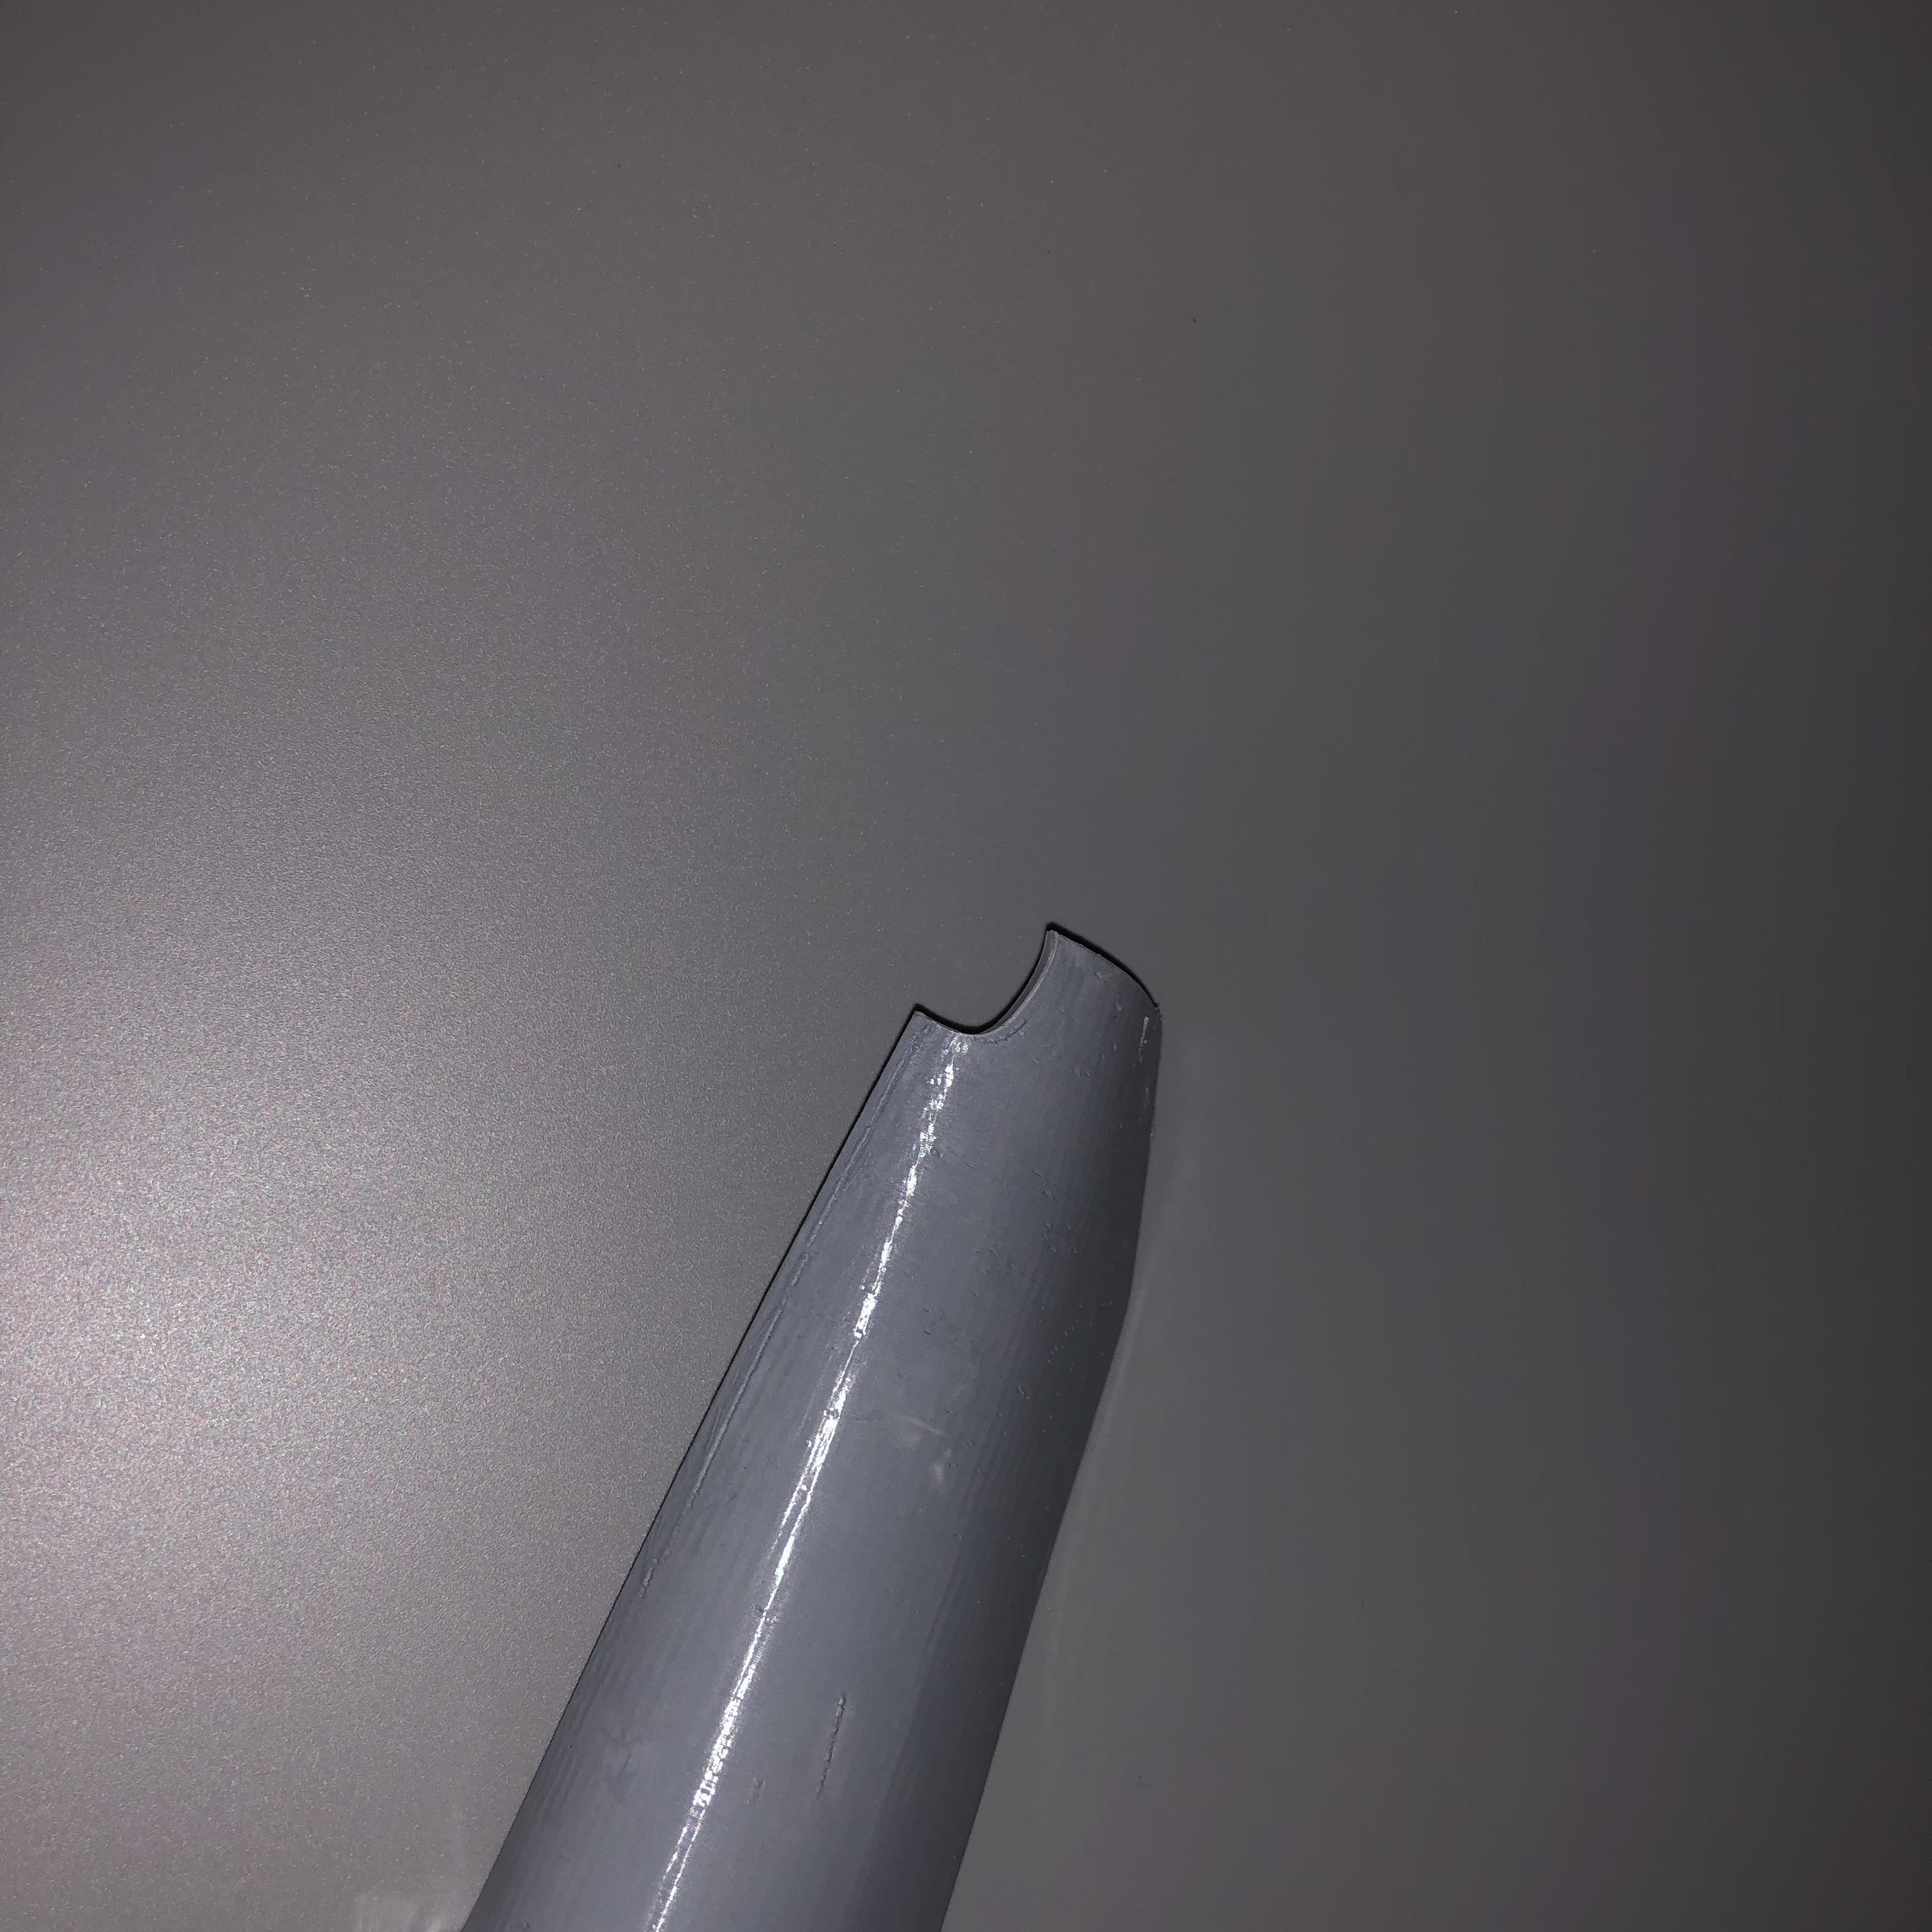fracture: (909, 911, 1095, 1047)
